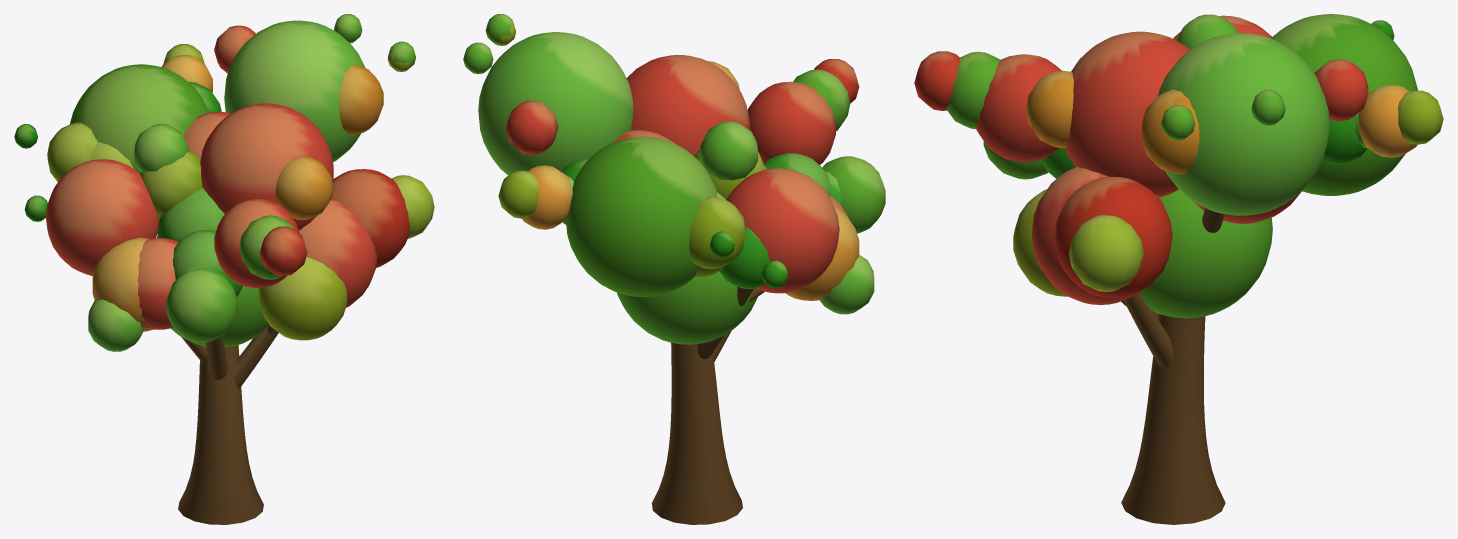
File: canopy-tree-109.obj
3 views of the same model, side by side, from view 1: azimuth 30°, elevation 25°; view 2: azimuth 150°, elevation 25°; view 3: azimuth 270°, elevation 25° (orthographic). The views are drawn at different scales.
Parts seen in each view (by area): view 1: tree; view 2: tree; view 3: tree.
Part boxes in pixels (x1,y1,x2,y2): tree: (14, 14, 434, 524); tree: (463, 14, 885, 524); tree: (914, 14, 1443, 524).
Bounding box in the file's own units: 326 × 395 × 362.
